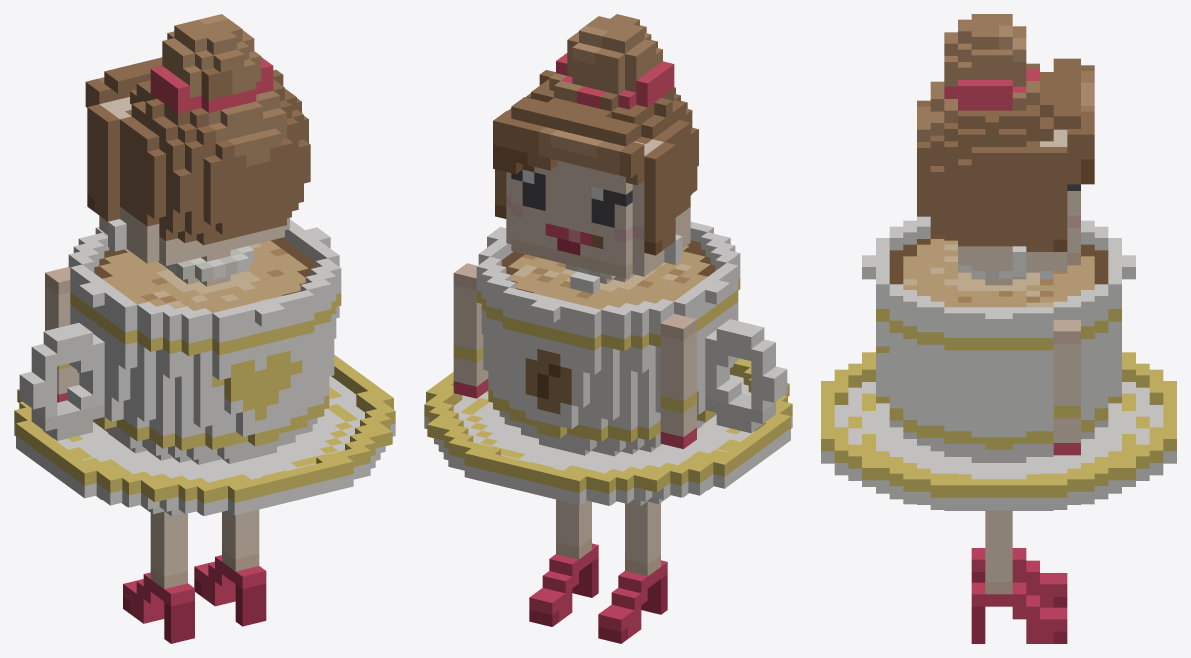
Rendered from EspressoSignora.glb.
3 views of the same model, side by side, from view 1: azimuth 30°, elevation 25°; view 2: azimuth 150°, elevation 25°; view 3: azimuth 270°, elevation 25° (orthographic). The views are drawn at different scales.
Parts seen in each view (by area): view 1: geometry_0; view 2: geometry_0; view 3: geometry_0.
Boxes of the visible parts, bbox=[...] form: geometry_0: bbox=[14, 14, 395, 643]; geometry_0: bbox=[424, 14, 792, 643]; geometry_0: bbox=[821, 14, 1176, 643].
Size of the model in its own units: 0.5833 by 1 by 0.5417.
